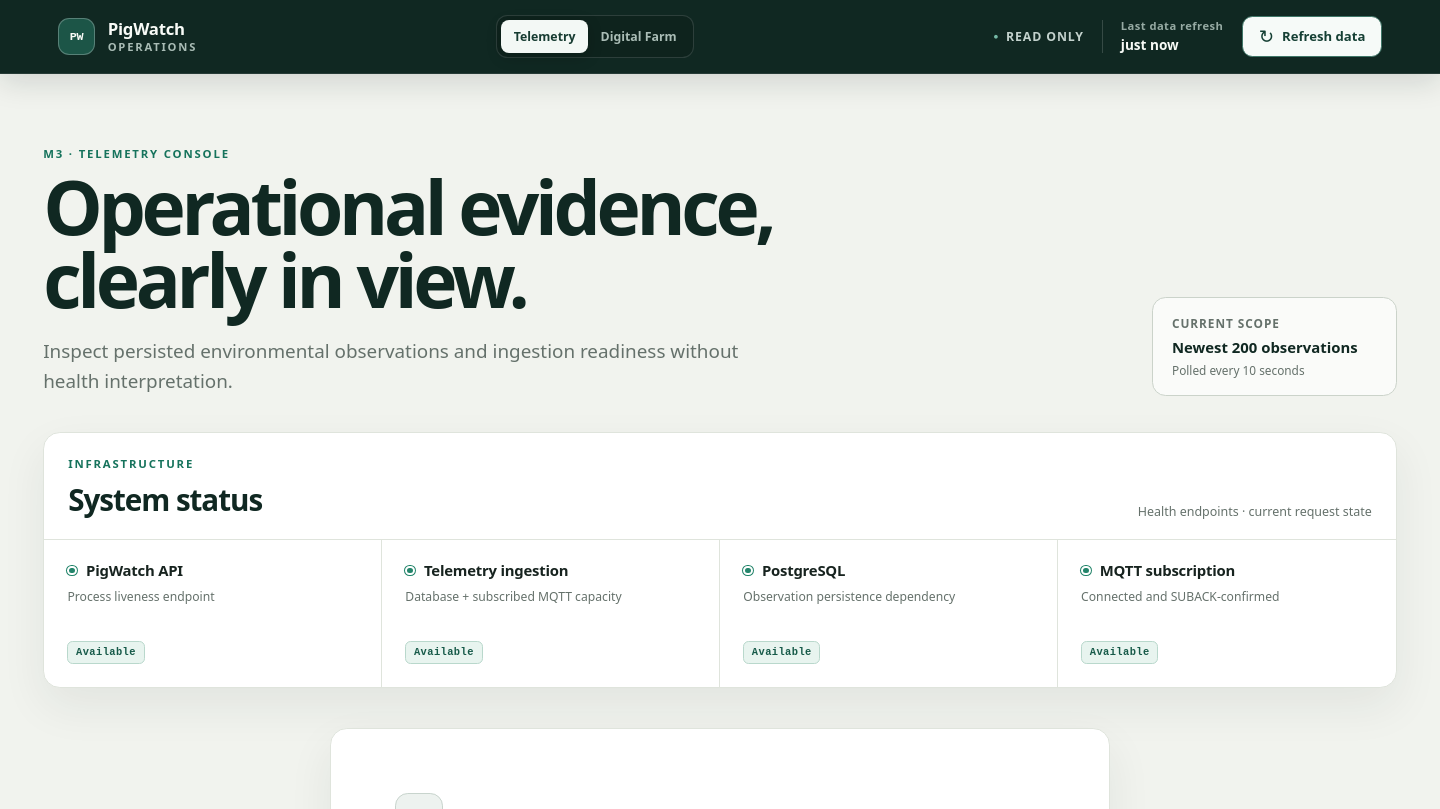
M3 dashboard › moves from healthy to readiness 503 semantics without losing dependency detail
Click the button "Refresh data". click: {"x": 1312, "y": 36}
box: [1242, 16, 1382, 57]
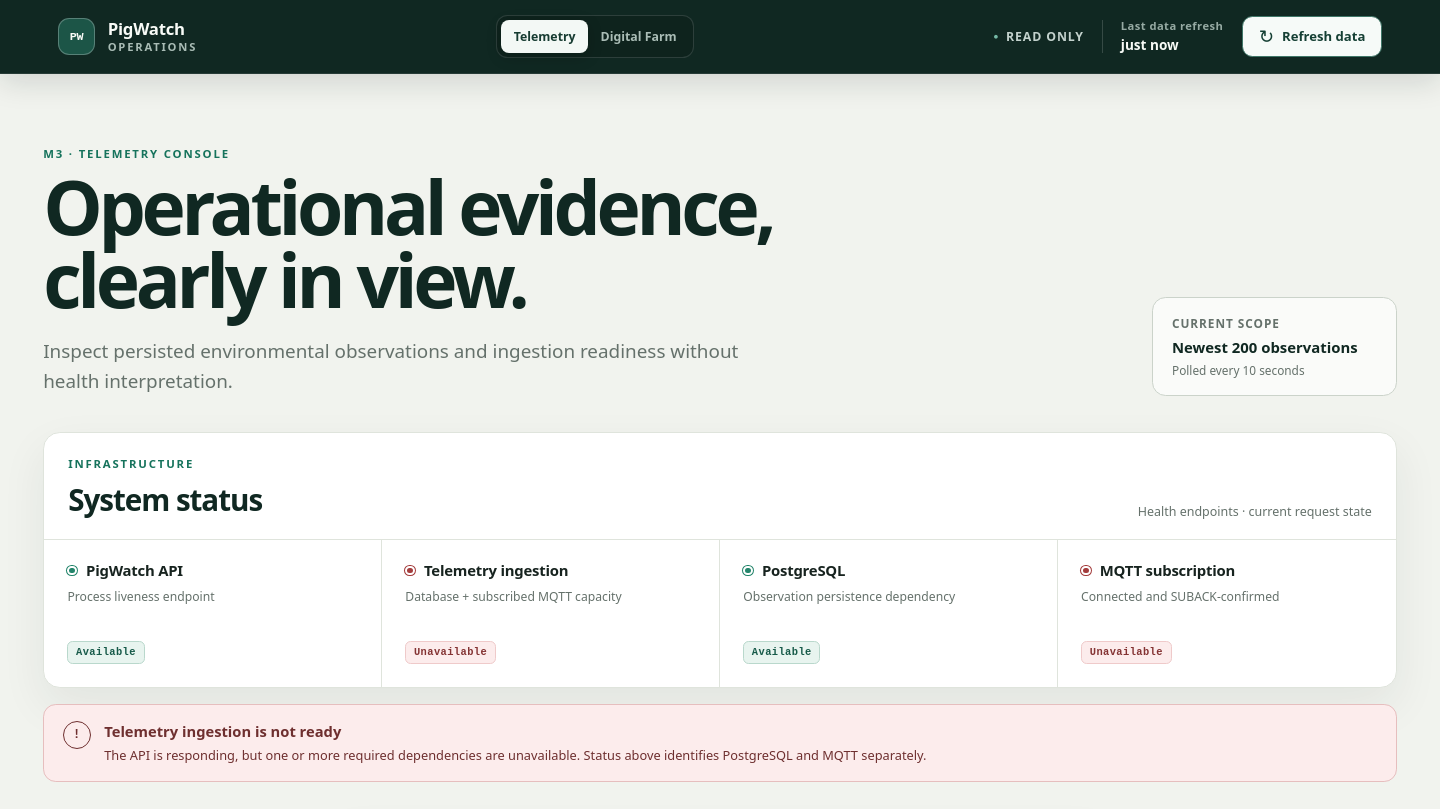
Expected: the element "PostgreSQL" shows "Available", [752, 646, 812, 658]
Now the heading "Telemetry ingestion is not ready" is shown, box [104, 721, 341, 741]
Now the element "MQTT subscription" shows "Unavailable", box [1090, 646, 1163, 658]
